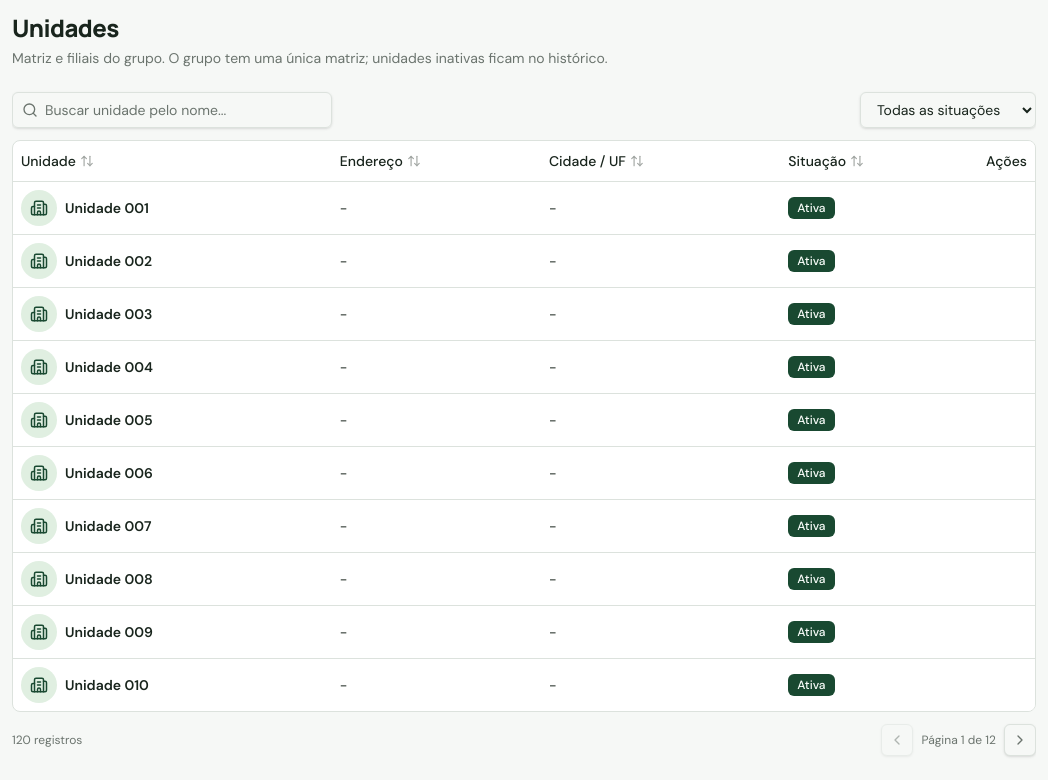
Test case: UnidadesPage › pagina no servidor: mais de 50 unidades, total do header e offset da página 2
The image size is (1048, 780).
Expected: the text "Unidade 001" is shown, [21, 190, 149, 226]
Expected: the text with test id "table-count" reads "120 registros", [12, 732, 82, 748]
Click the button named "Próxima página" at (1020, 740), box [1004, 724, 1036, 756]
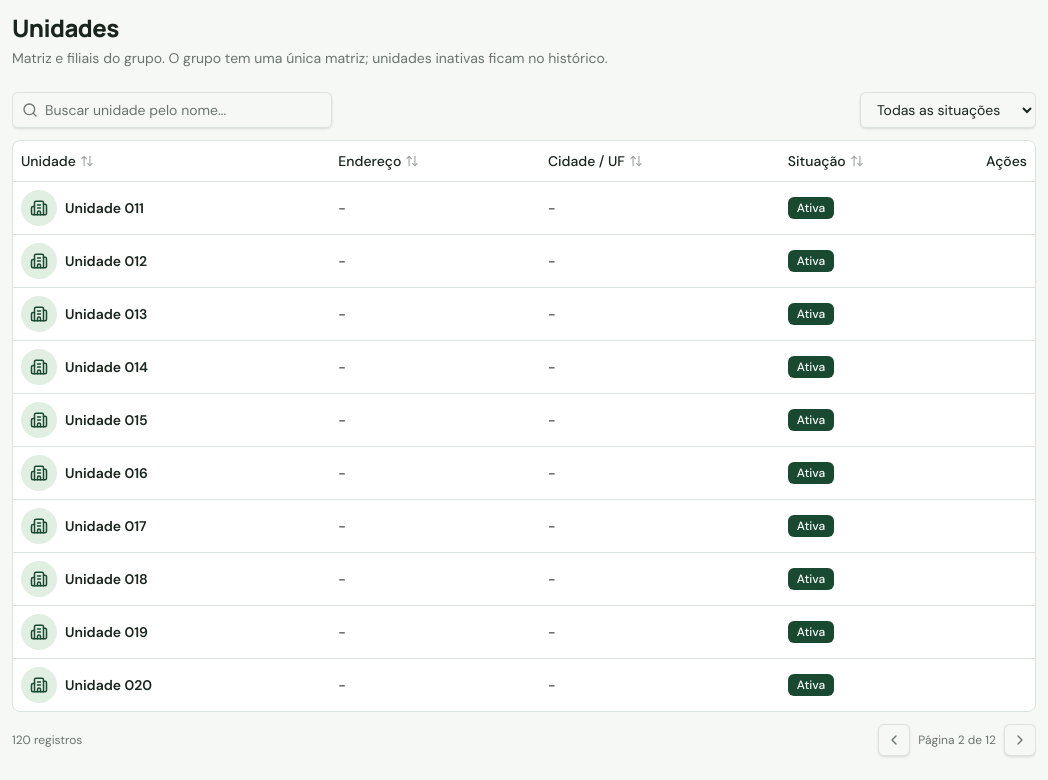
Expected: the text "Unidade 011" is shown, [21, 190, 144, 226]
Expected: the text "Unidade 001" is gone
Expected: the text "Página 2 de 12" is shown, [918, 732, 996, 748]
